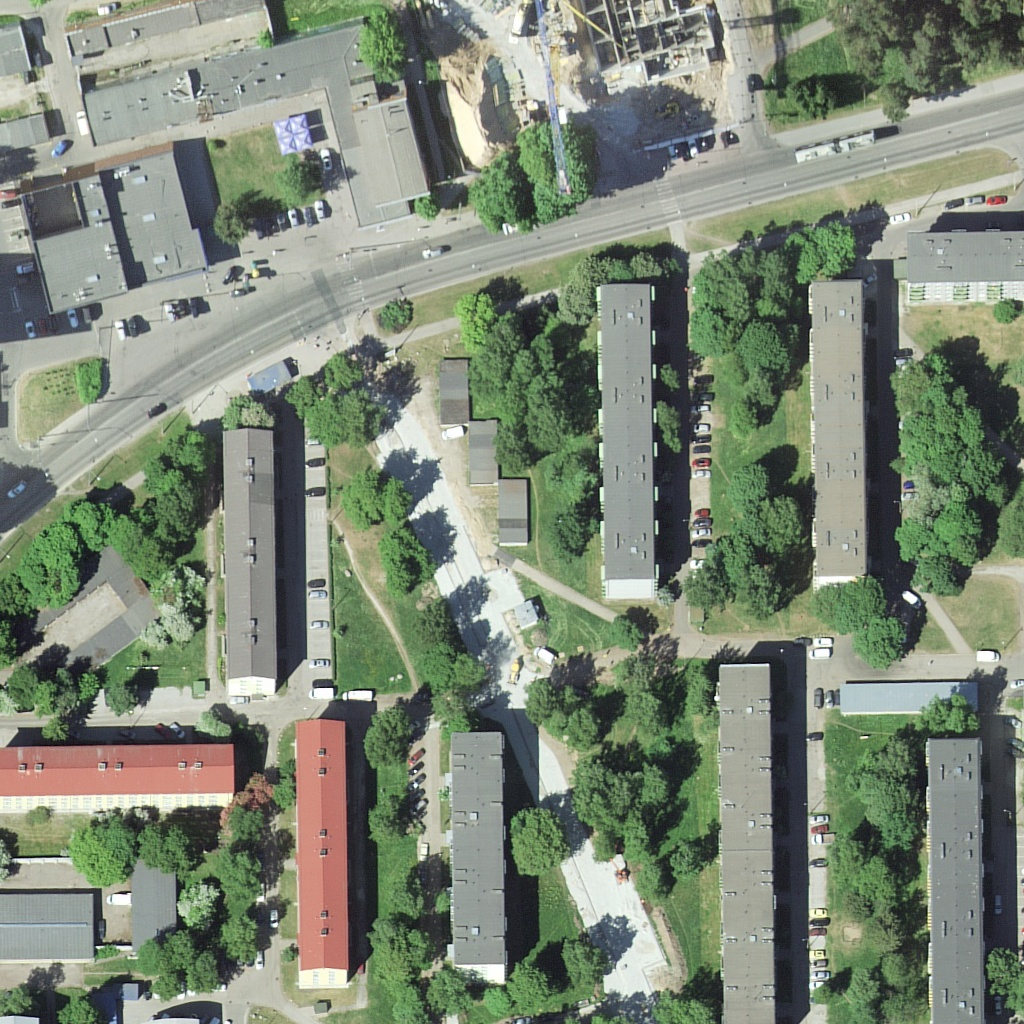building: (59, 5, 398, 145), (21, 163, 220, 316), (921, 731, 1006, 1024), (591, 281, 663, 608), (805, 281, 872, 591), (719, 659, 775, 1024), (325, 20, 423, 225), (212, 421, 284, 700), (291, 716, 358, 1002), (7, 744, 244, 821), (447, 734, 514, 993), (898, 230, 1020, 304), (4, 886, 102, 966), (833, 680, 988, 717), (124, 858, 177, 942), (432, 346, 474, 428), (469, 422, 503, 496), (499, 474, 531, 552)
